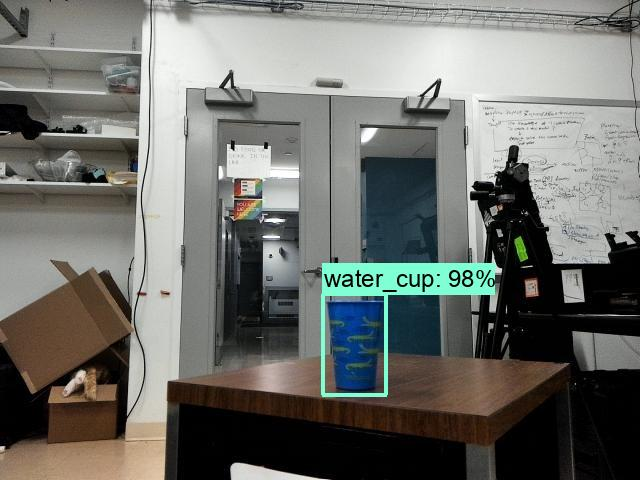water_cup: (324, 297, 384, 391)
